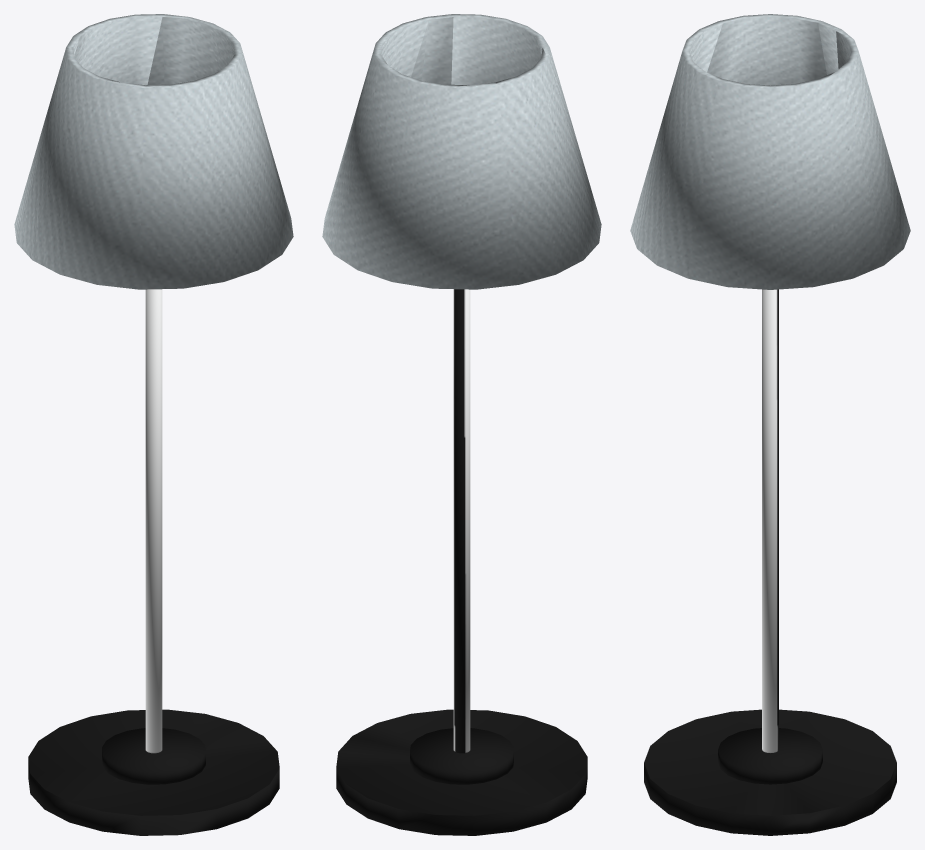
Rendered from LamparaPie.fbx.
The picture shows the model from 3 angles, left to right: view 1: azimuth 30°, elevation 25°; view 2: azimuth 150°, elevation 25°; view 3: azimuth 270°, elevation 25°; orthographic projection.
Parts seen in each view (by area): view 1: LamparaPie; view 2: LamparaPie; view 3: LamparaPie.
Part boxes in pixels (left/top/right/bottom): LamparaPie: left=14, top=14, right=293, bottom=835; LamparaPie: left=322, top=14, right=601, bottom=835; LamparaPie: left=630, top=14, right=910, bottom=835.
Size of the model in its own units: 85.39 by 246 by 85.39.
4 materials, 3 textured.
